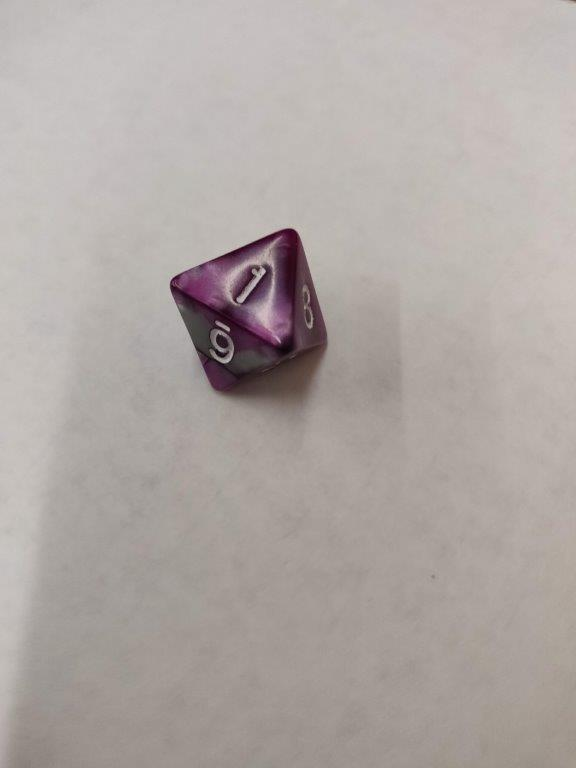d8-1: (170, 227, 327, 392)
